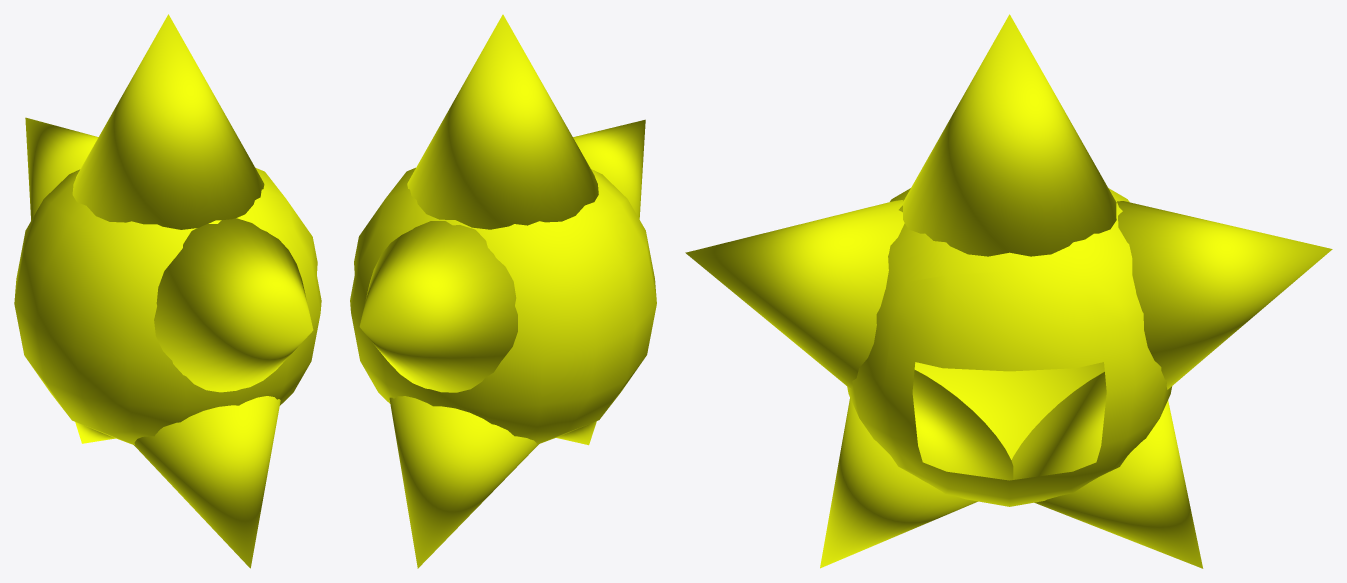
File: suta.fbx
3 views of the same model, side by side, from view 1: azimuth 30°, elevation 25°; view 2: azimuth 150°, elevation 25°; view 3: azimuth 270°, elevation 25° (orthographic). The views are drawn at different scales.
Visible parts, largest first — view 1: 円錐; view 2: 円錐; view 3: 円錐.
Boxes of the visible parts, x1,y1,x2,y2 form: 円錐: (14, 14, 321, 568); 円錐: (350, 14, 656, 568); 円錐: (685, 14, 1332, 568).
Size of the model in its own units: 165 by 298 by 314.
